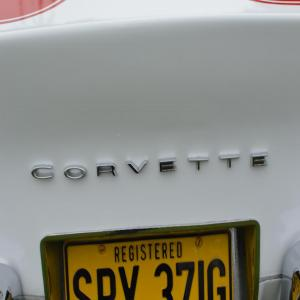Vehicle-registration-plate: (58, 233, 252, 300)
